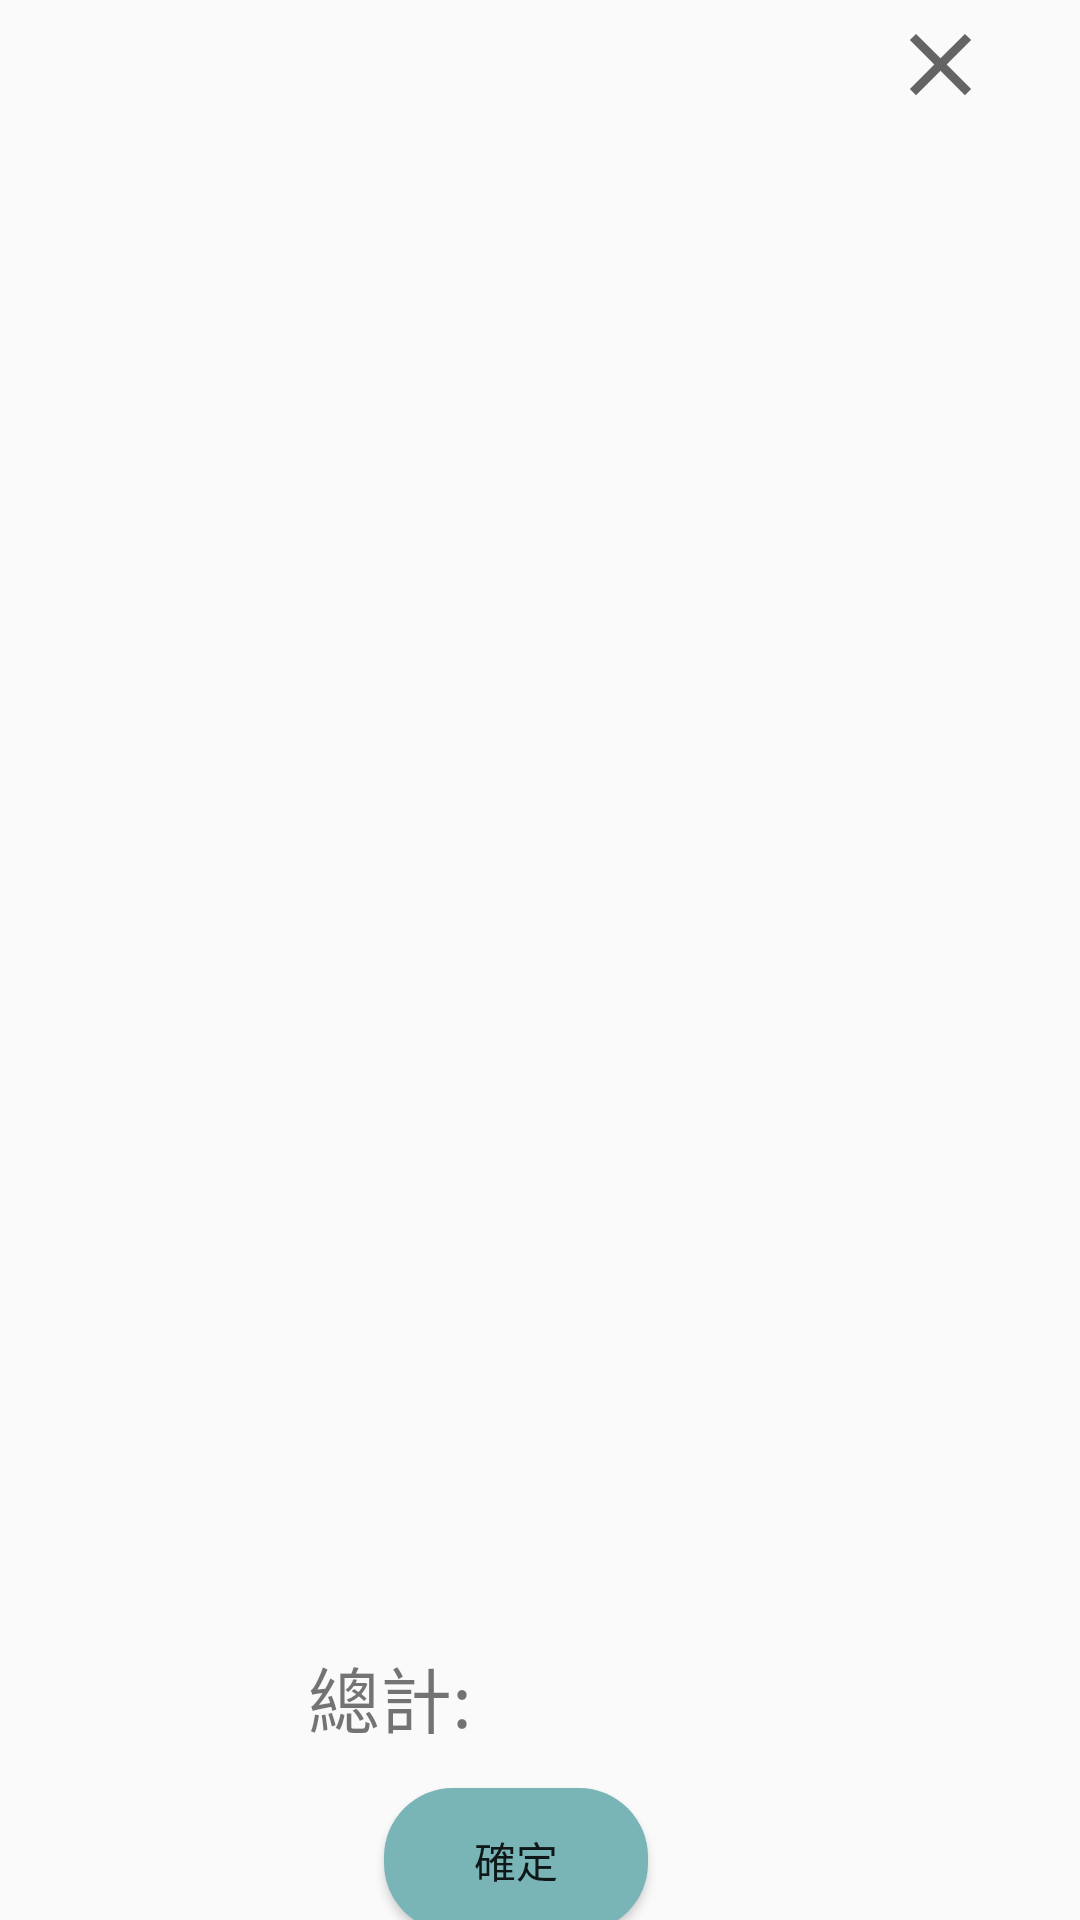

Locate icon controls on the screen. Image size 1080 × 1920, boxes as (x1, y1, x2, y2).
close: (910, 34, 971, 95)
